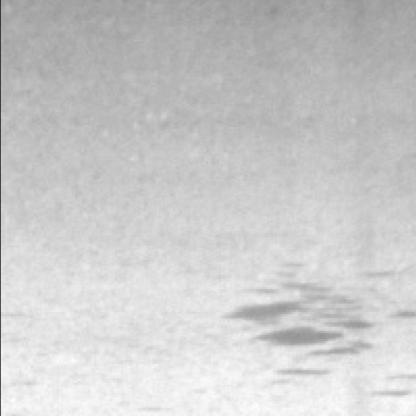inclusion: (227, 268, 393, 389)
